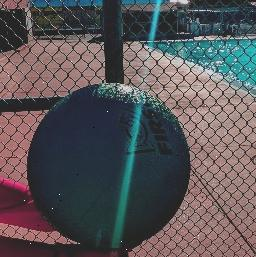algae: (21, 80, 192, 247)
